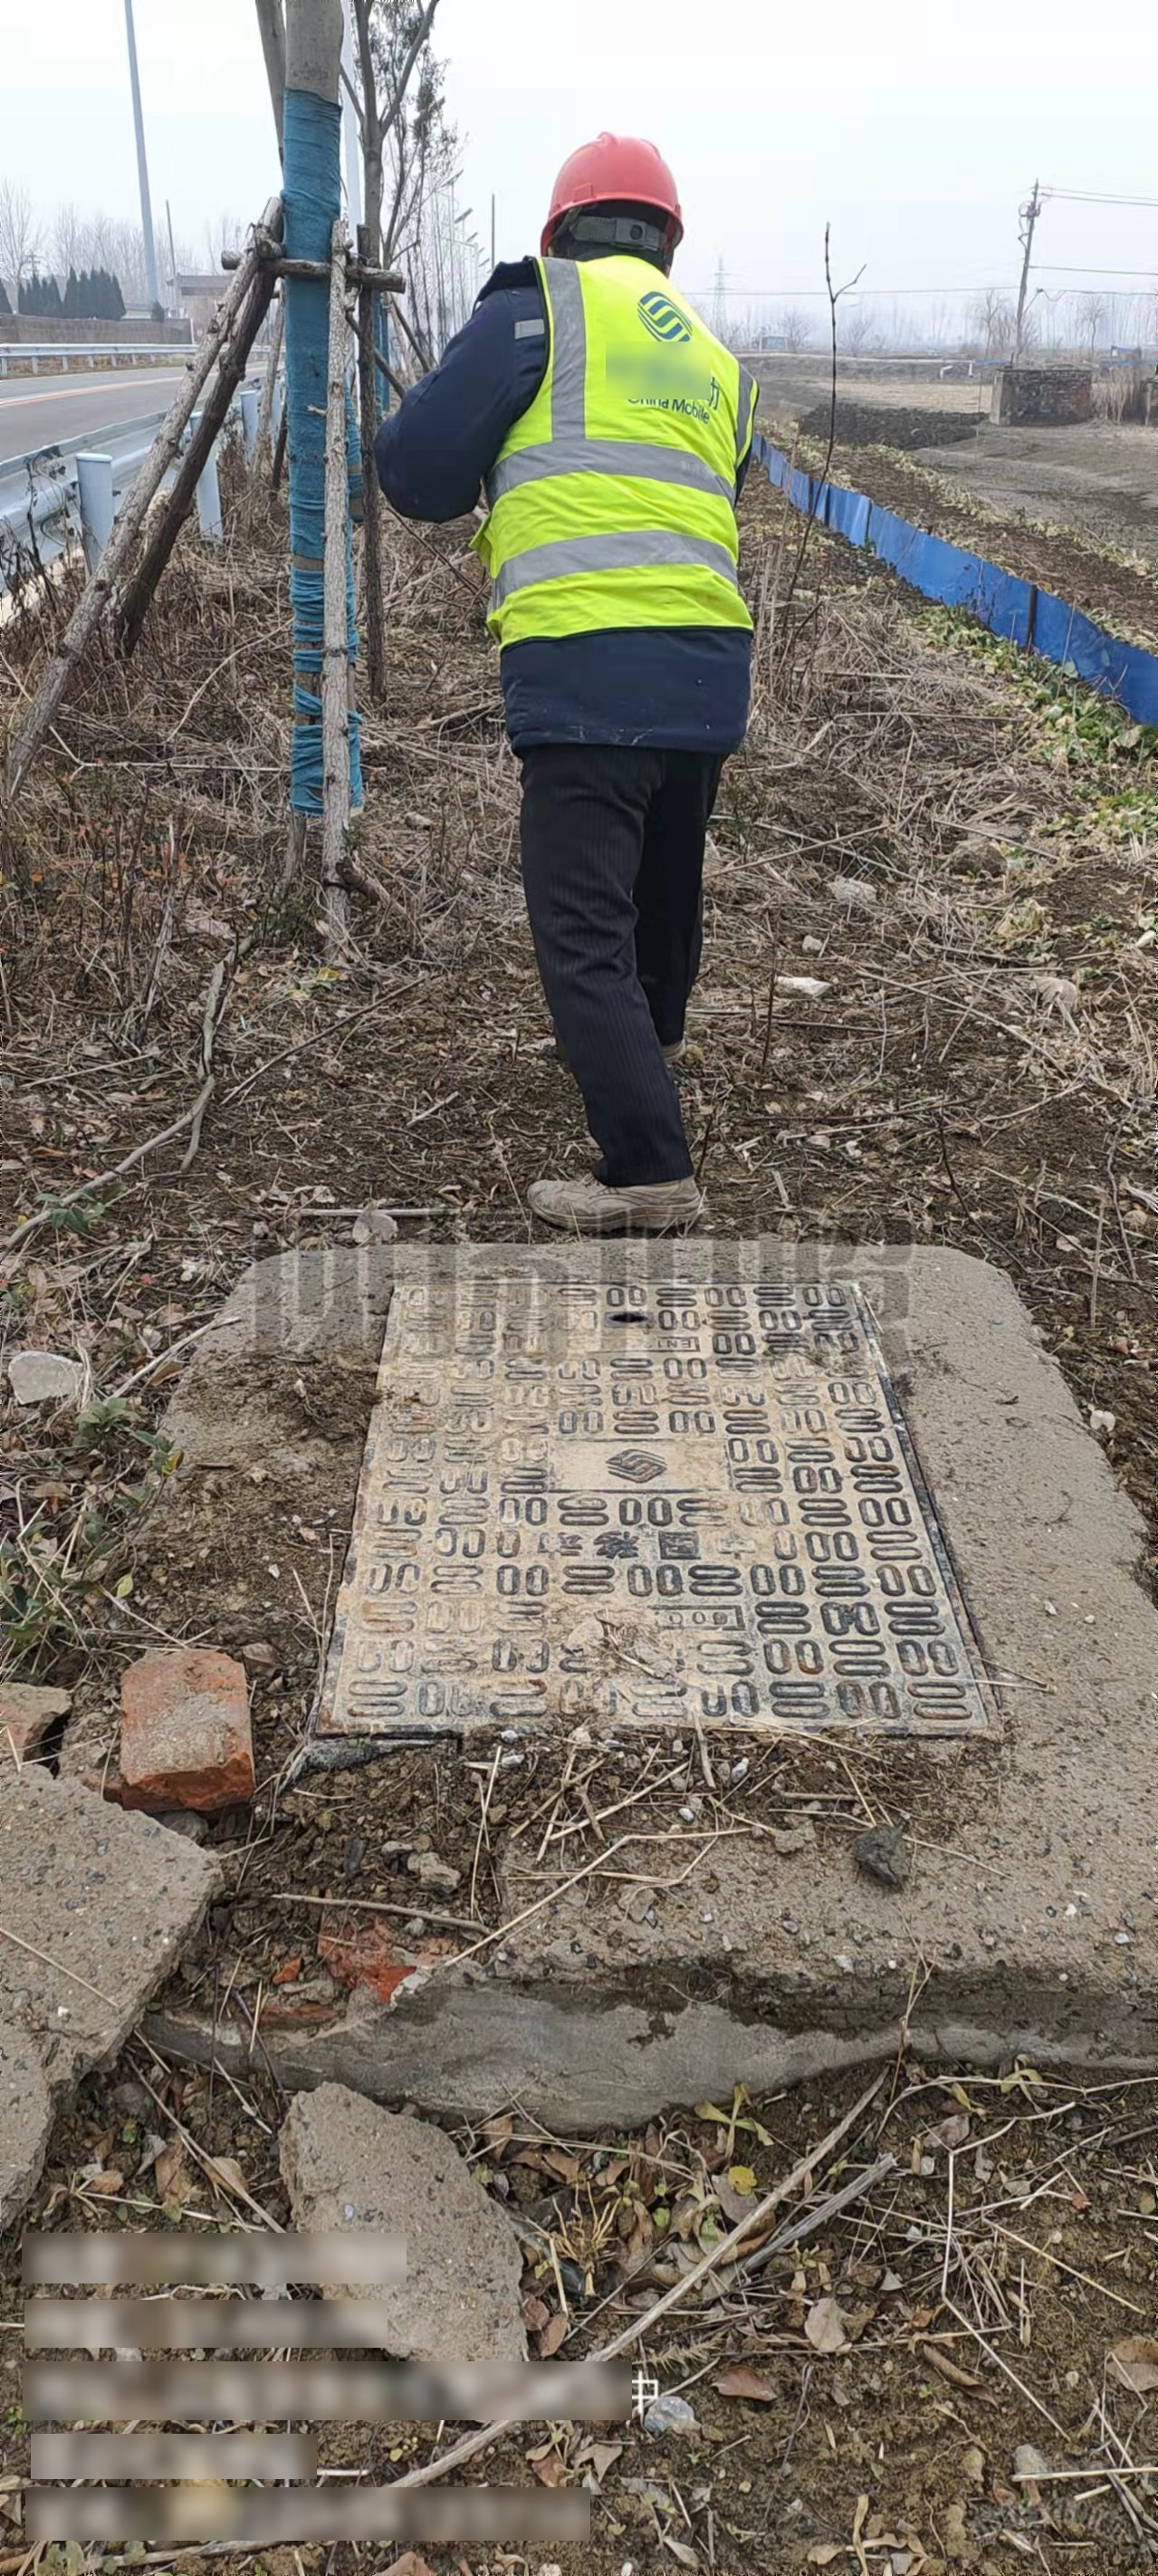good: (315, 1263, 1015, 1745)
